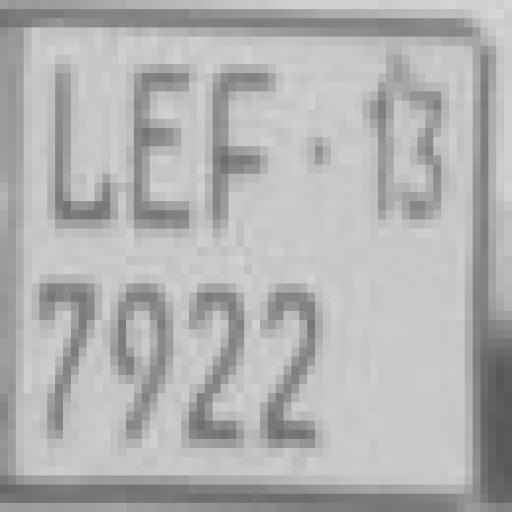2: (261, 294, 340, 450), (183, 281, 257, 446)
7: (42, 283, 90, 437)
9: (112, 280, 178, 449)
E: (133, 53, 194, 240)
F: (208, 58, 286, 238)
L: (48, 45, 113, 243)
